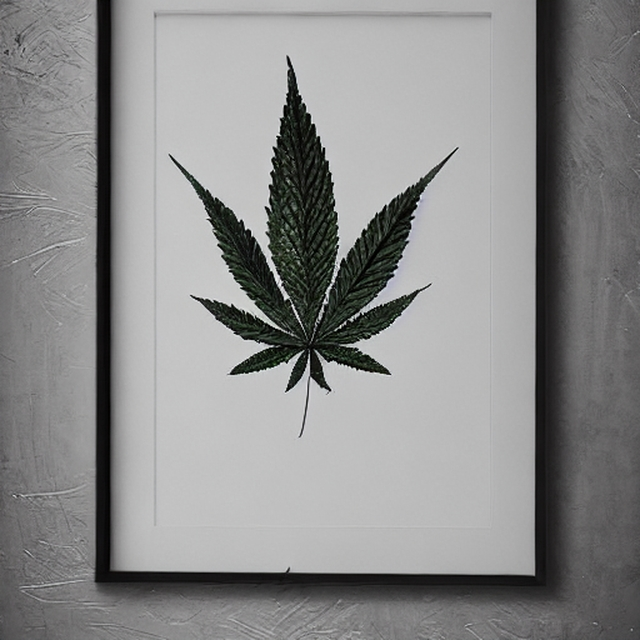Marijuana Leaf: (166, 52, 460, 437)
